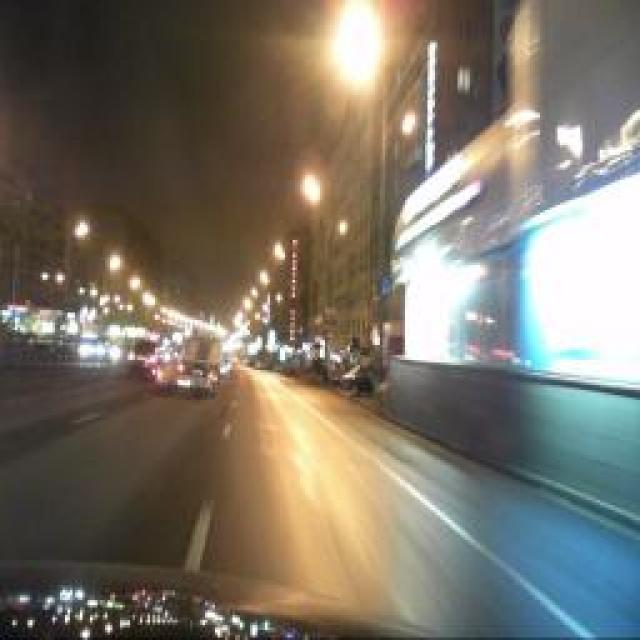sign: (380, 276, 392, 296)
